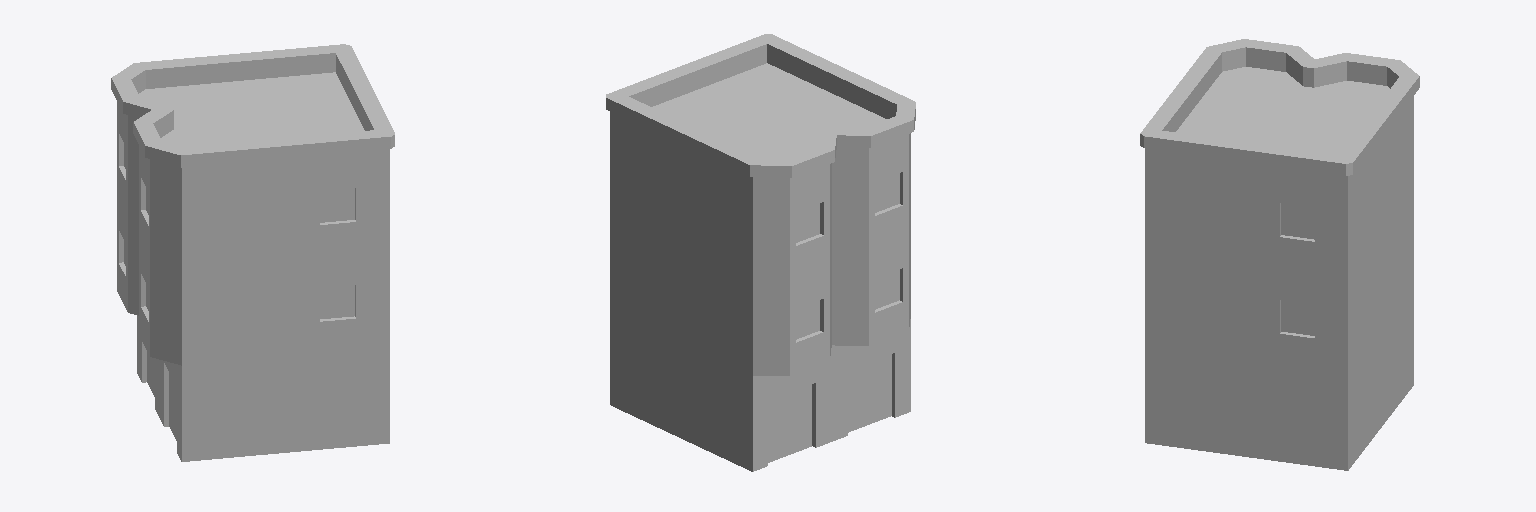
Rendered from variant_10.obj.
The picture shows the model from 3 angles: view 1: azimuth 30°, elevation 25°; view 2: azimuth 150°, elevation 25°; view 3: azimuth 270°, elevation 25°; orthographic projection.
Visible parts, largest first — view 1: small_buildingA; view 2: small_buildingA; view 3: small_buildingA.
Part boxes in pixels (left/top/right/bottom): small_buildingA: left=111, top=44, right=394, bottom=461; small_buildingA: left=606, top=34, right=915, bottom=471; small_buildingA: left=1140, top=39, right=1419, bottom=470.
Bounding box in the file's own units: 1.11 × 1.28 × 1.05.